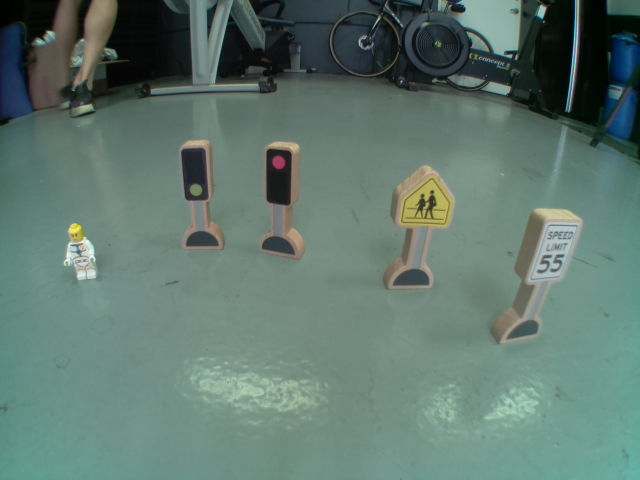Green Traffic Light: (177, 143, 214, 204)
Red Traffic Light: (261, 142, 300, 207)
Speed Limit 55: (532, 214, 577, 285)
YIELD: (396, 168, 455, 231)
person: (57, 219, 106, 283)
